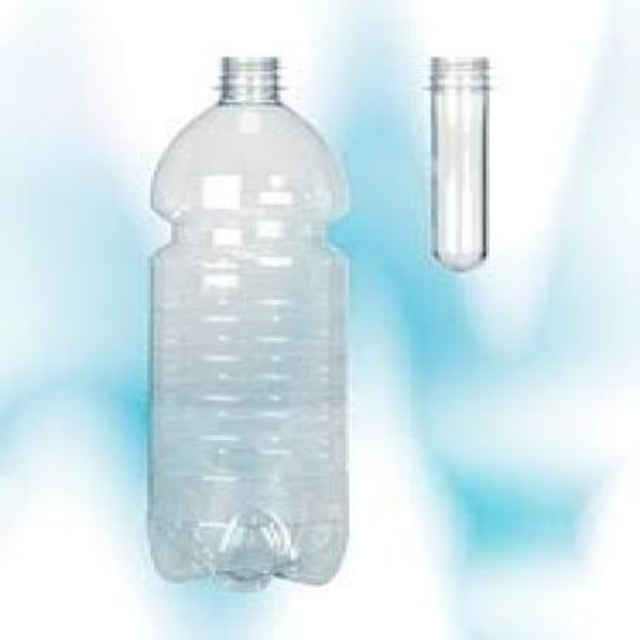trash: (149, 57, 346, 582), (431, 57, 488, 269)
